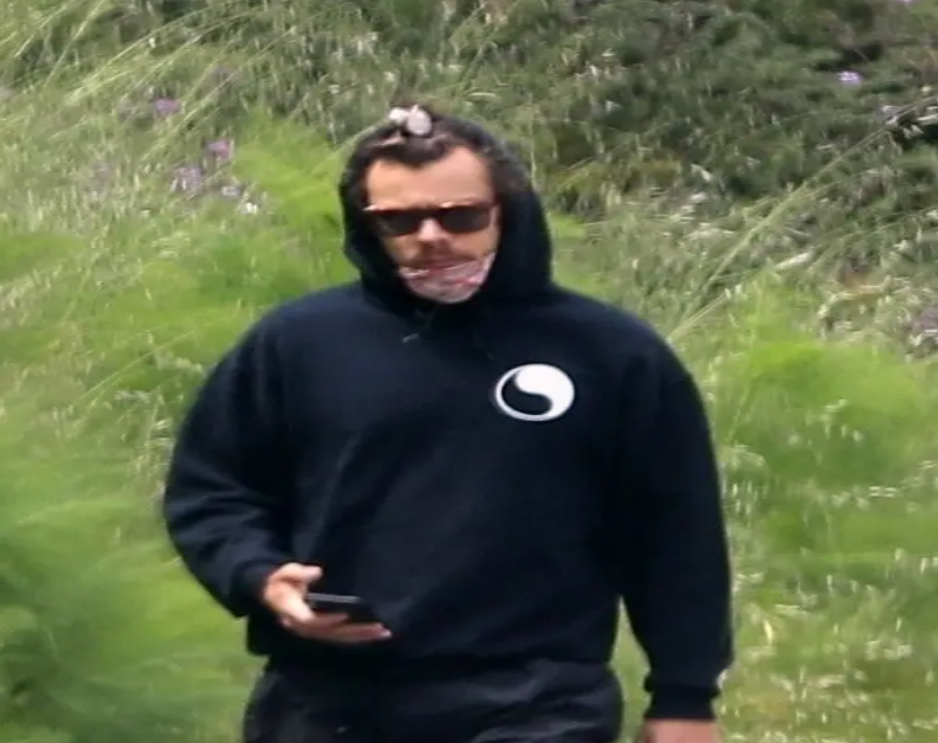mask_weared_incorrect: (339, 126, 528, 312)
